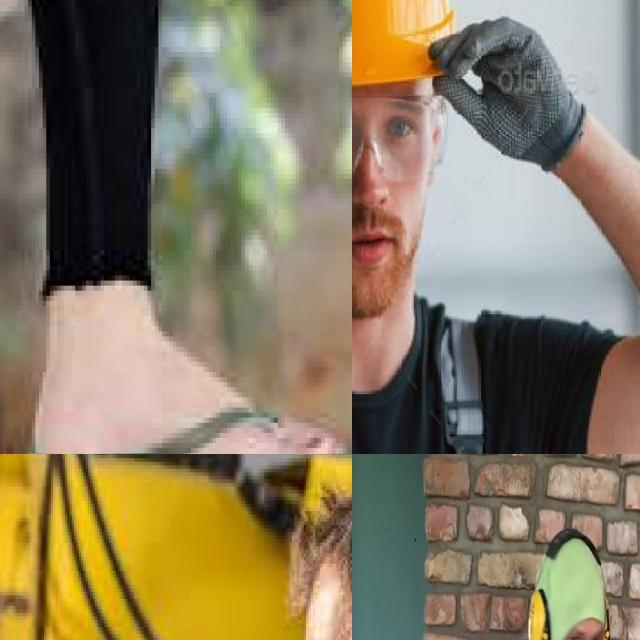Ear-protection: (529, 529, 612, 640)
No_Glasses: (560, 614, 603, 640)
Sandals: (26, 292, 352, 454)
face_nomask: (352, 150, 426, 318)
glasses: (352, 97, 445, 184)
hand_glove: (429, 17, 585, 170)
head_helmet: (352, 0, 454, 86)
person: (425, 515, 640, 640)
